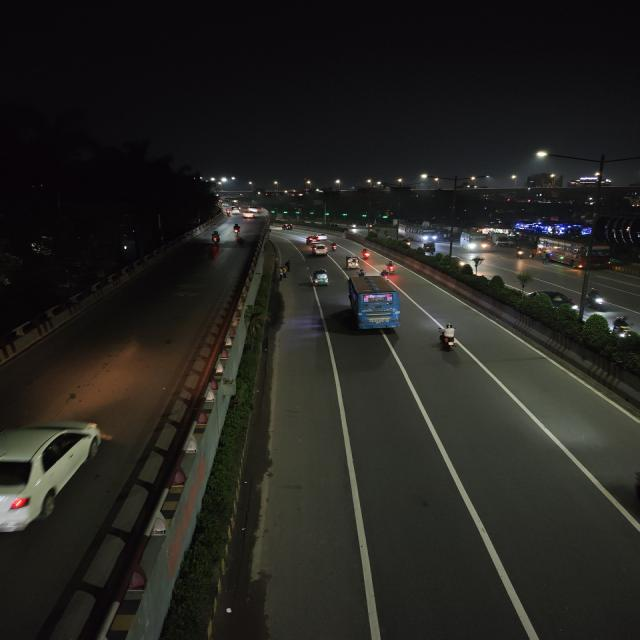bus: (341, 275, 406, 335), (538, 238, 610, 270), (400, 223, 438, 242), (460, 231, 492, 253)
car: (0, 416, 115, 540), (310, 244, 330, 258), (305, 234, 324, 244), (312, 232, 328, 242), (243, 208, 258, 217)
cng: (308, 268, 332, 286), (344, 256, 362, 270), (230, 207, 242, 215)
motorcycle: (432, 322, 467, 356), (608, 314, 636, 342), (585, 286, 610, 312), (381, 260, 399, 276), (209, 230, 223, 246), (379, 266, 396, 278), (359, 247, 374, 260), (515, 247, 527, 260), (328, 241, 339, 253), (232, 222, 242, 235)
pedestrian: (279, 262, 291, 278), (276, 266, 288, 281)
